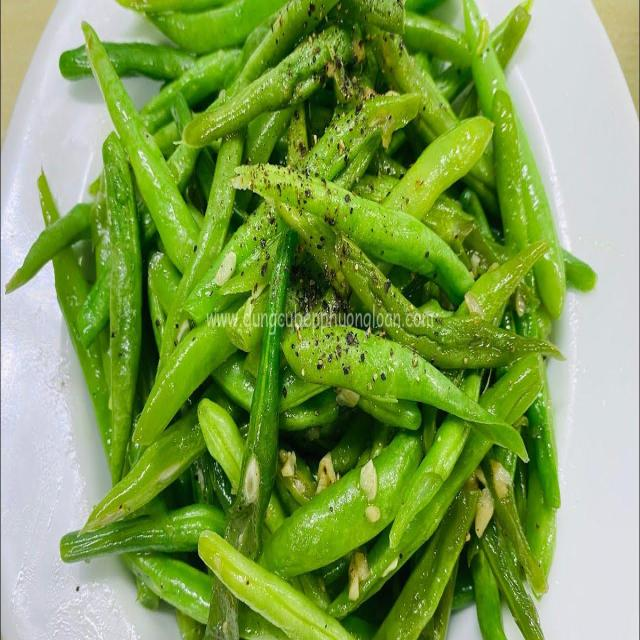dau que: (6, 0, 596, 639)
